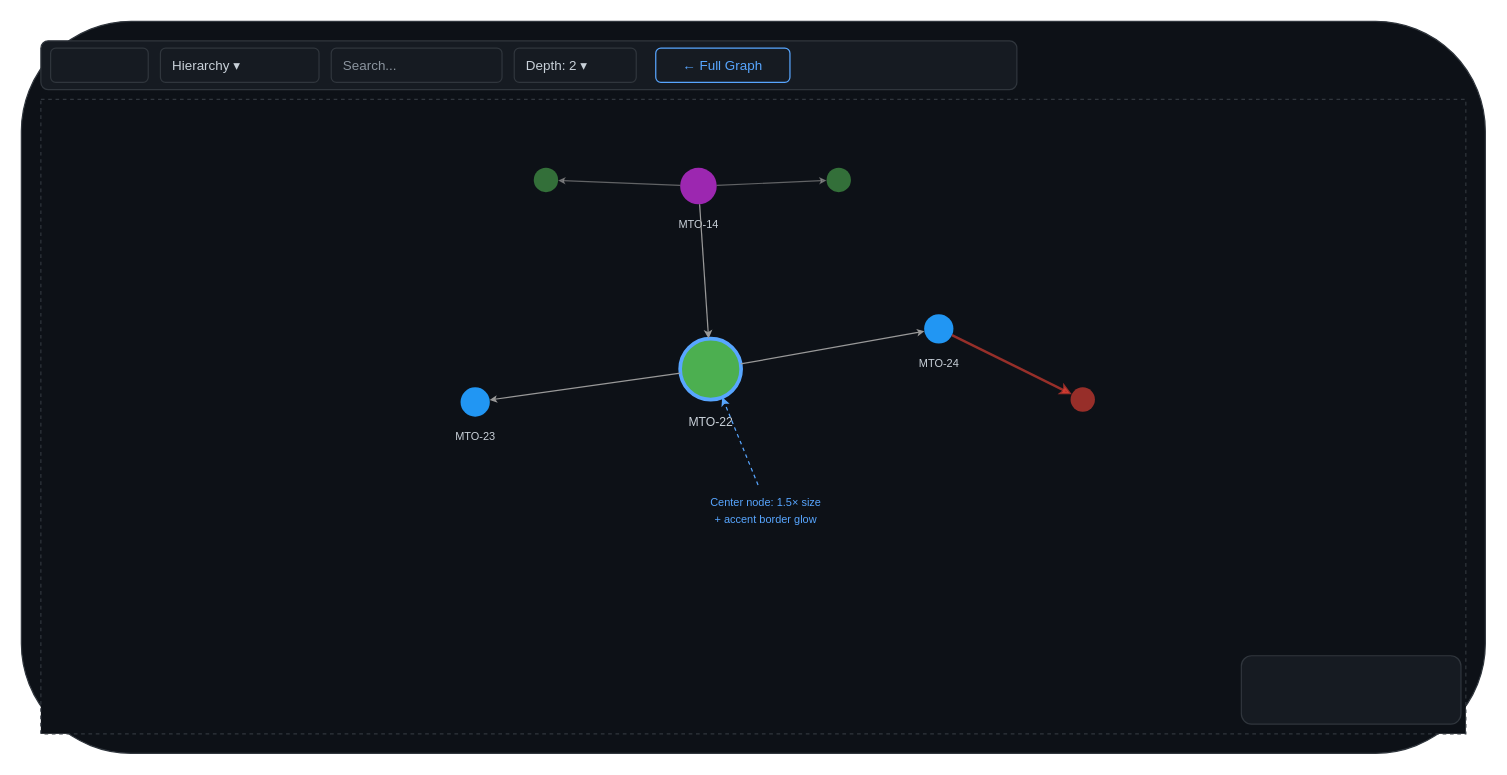
Image size: 1507x775. Some labels were removed from this diagram. The centre of each missing label's shape, as x and y in pixels:
"Center: MTO-22 Depth: 2 hops | Nodes: 6 View: hierarchy" goes at (x=1350, y=689).
"MTO" goes at (x=98, y=64).
